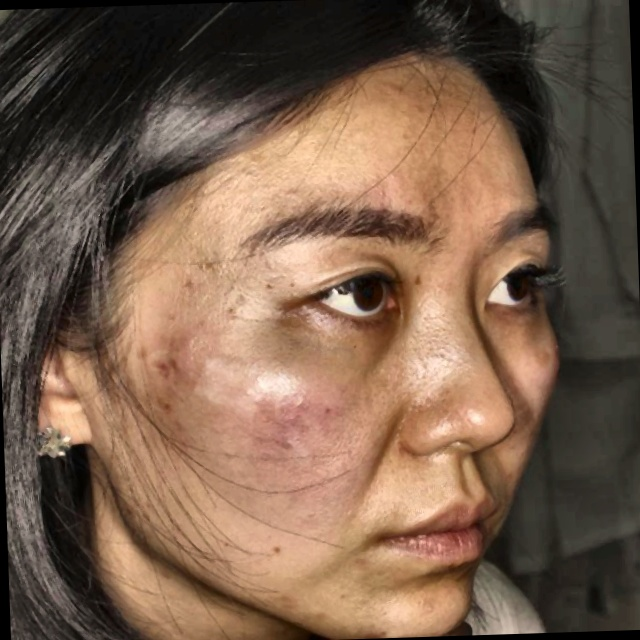comedone: (167, 332, 191, 372), (126, 337, 159, 364)
